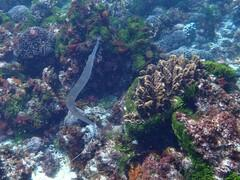Fistularia commersonii: (61, 34, 117, 161)
